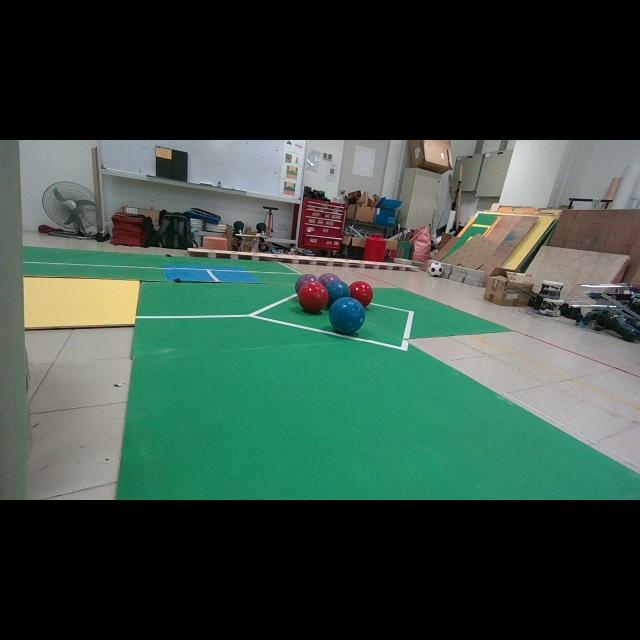B: (329, 299, 365, 333), (326, 280, 351, 307)
P: (295, 274, 319, 293), (319, 272, 340, 286)
R: (298, 281, 329, 314), (349, 281, 374, 307)
